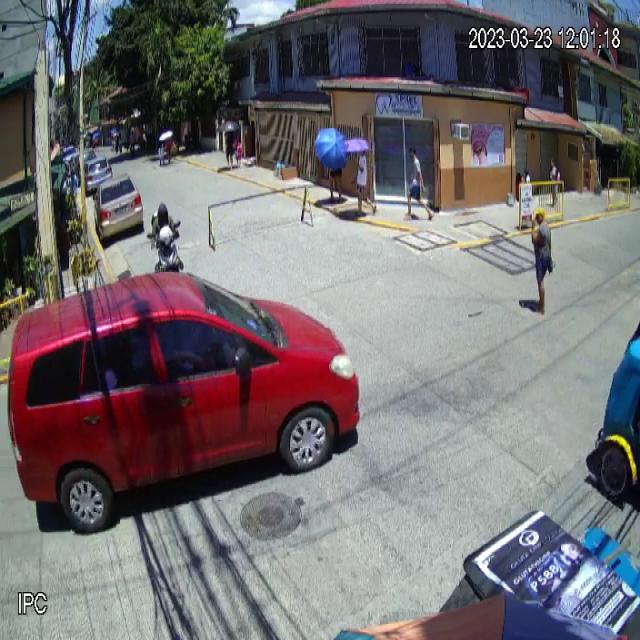Car: (7, 270, 361, 534)
